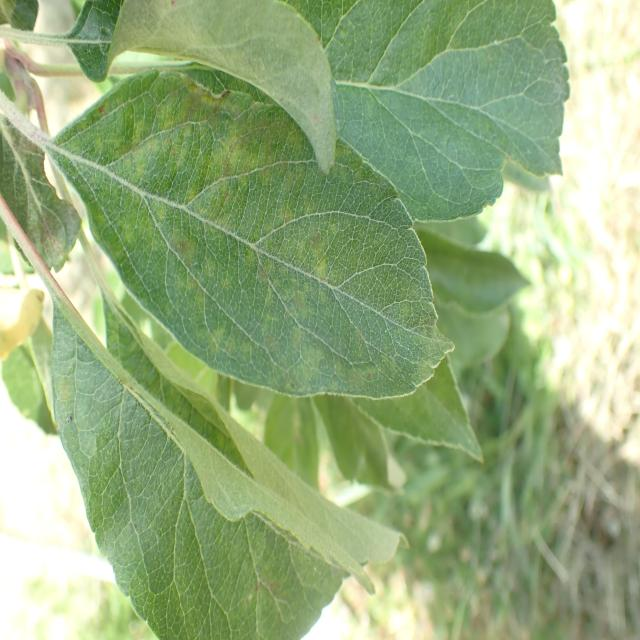scab: (64, 72, 429, 390)
